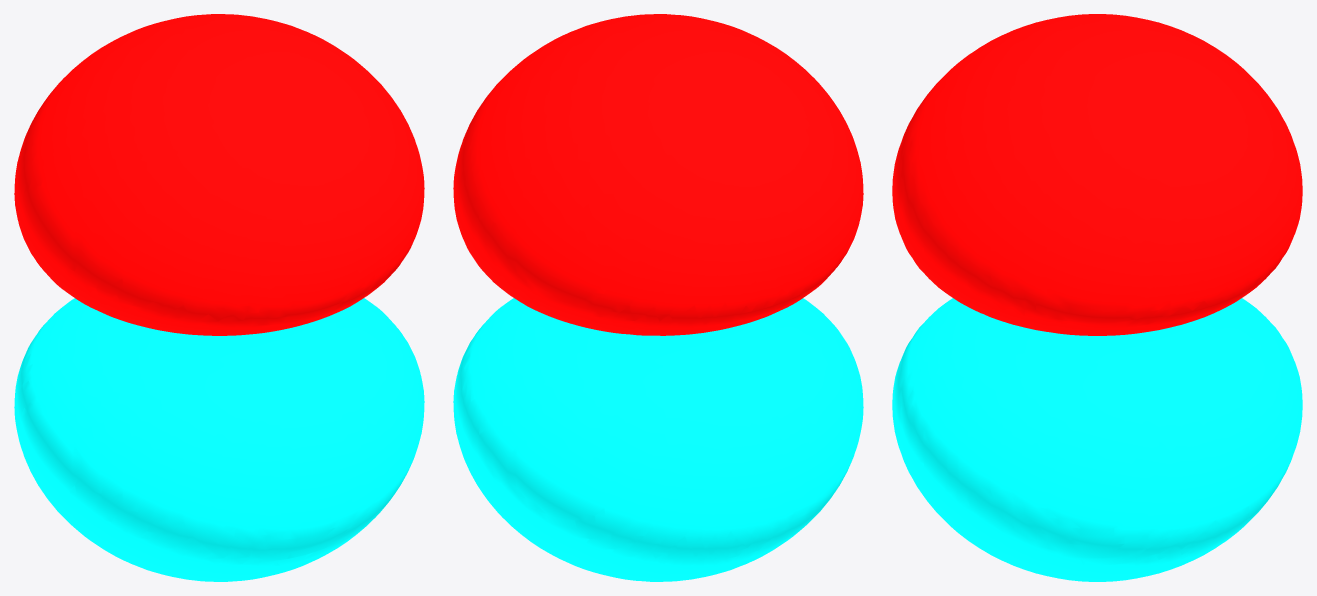
File: orbital_n2_l1_m0_complex_phase.fbx
3 views of the same model, side by side, from view 1: azimuth 30°, elevation 25°; view 2: azimuth 150°, elevation 25°; view 3: azimuth 270°, elevation 25° (orthographic).
Parts seen in each view (by area): view 1: orbital_n2_l1_m0_complex_phase; view 2: orbital_n2_l1_m0_complex_phase; view 3: orbital_n2_l1_m0_complex_phase.
Part boxes in pixels (x1=…): orbital_n2_l1_m0_complex_phase: x1=14, y1=14, x2=424, y2=581; orbital_n2_l1_m0_complex_phase: x1=453, y1=14, x2=863, y2=581; orbital_n2_l1_m0_complex_phase: x1=892, y1=14, x2=1302, y2=581.
Size of the model in its own units: 1390 by 1962 by 1390.
